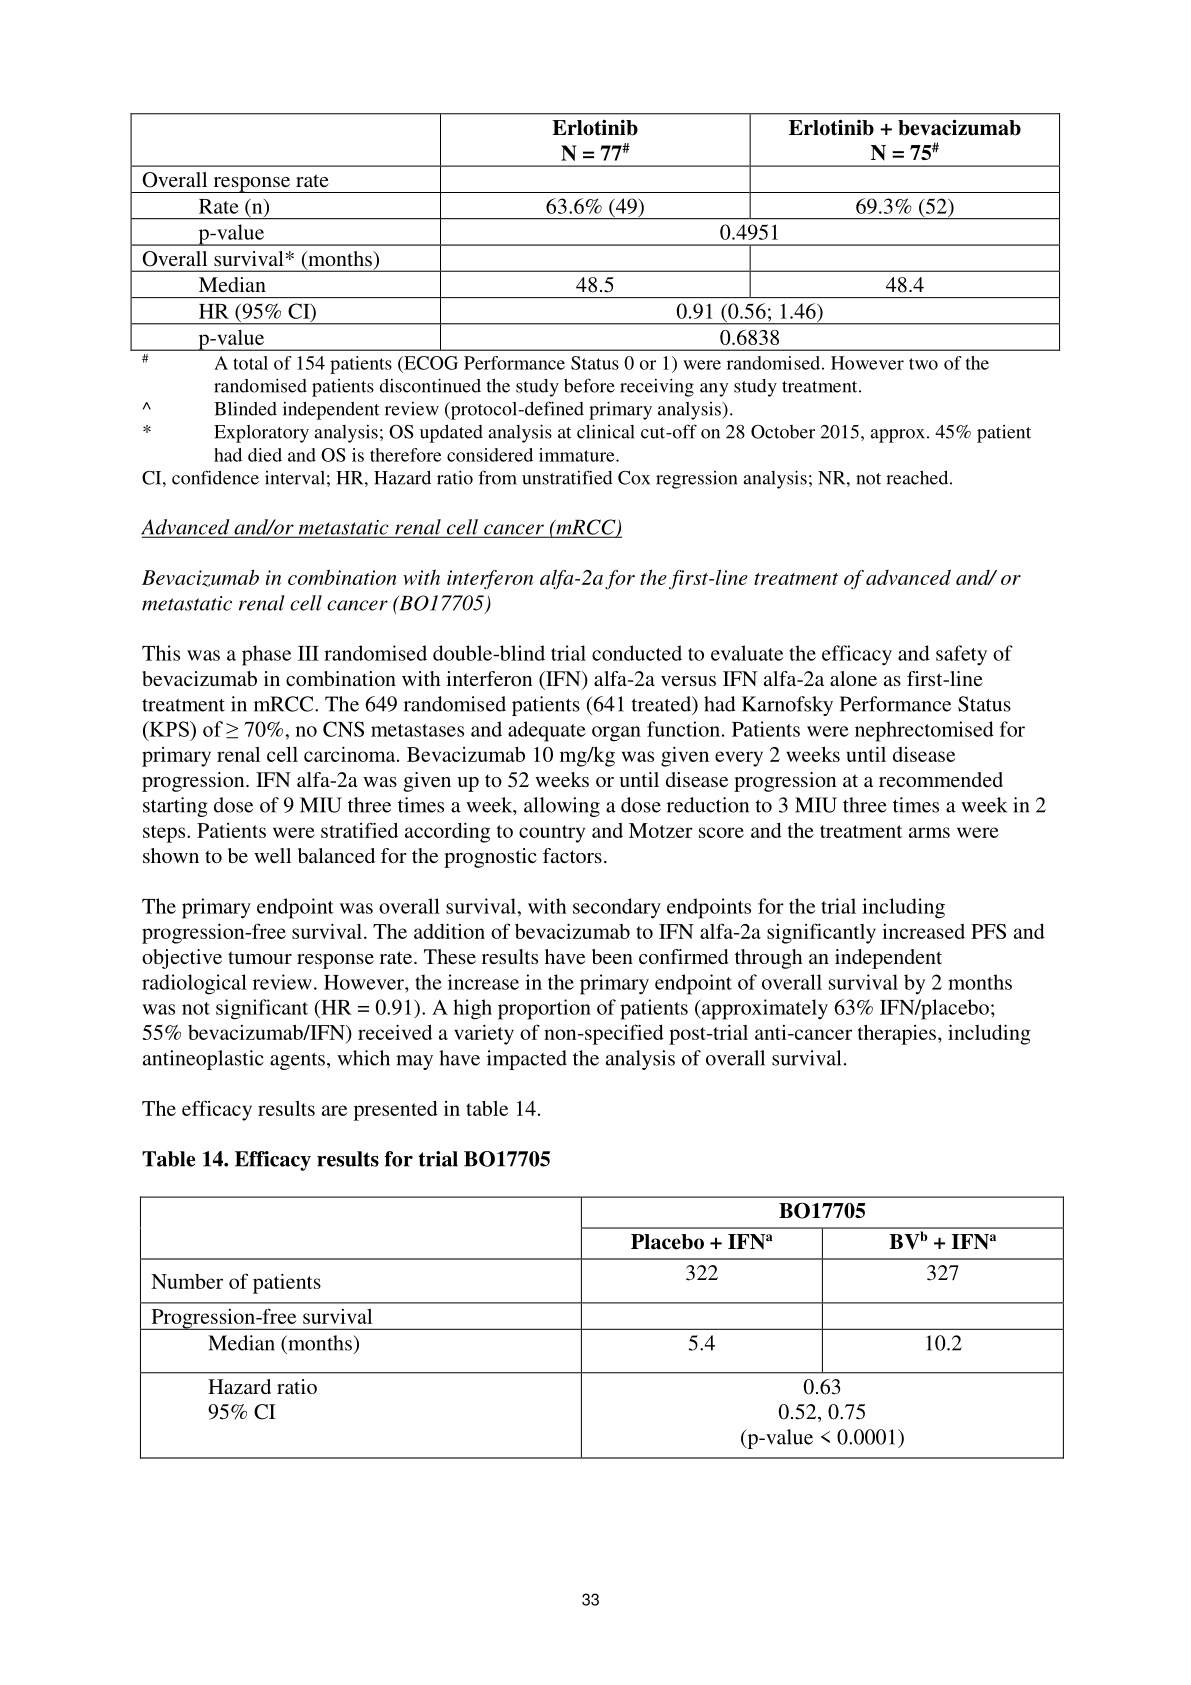merged_cells: (138, 1194, 1065, 1459), (130, 111, 1061, 351)
